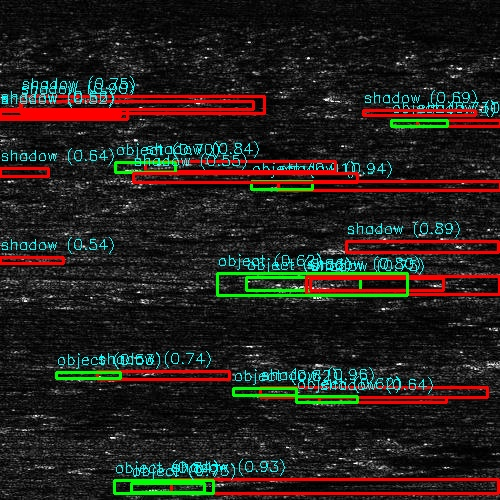rock: (285, 241, 410, 254), (241, 177, 334, 194), (127, 480, 210, 493), (317, 108, 410, 117), (479, 351, 500, 370), (115, 175, 178, 180), (256, 390, 287, 395), (137, 165, 178, 168), (12, 103, 43, 106), (0, 110, 10, 117)
shadow: (169, 480, 500, 493), (288, 177, 500, 194), (348, 241, 500, 254), (147, 175, 500, 180), (272, 390, 487, 395), (364, 108, 470, 117), (0, 110, 113, 117), (0, 257, 63, 266), (28, 103, 217, 106), (158, 165, 308, 168), (0, 382, 24, 391)
